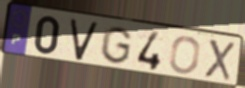0: (32, 15, 62, 56)
4: (135, 29, 163, 72)
G: (98, 25, 134, 66)
O: (167, 35, 202, 76)
V: (69, 18, 100, 62)
X: (203, 37, 236, 83)
